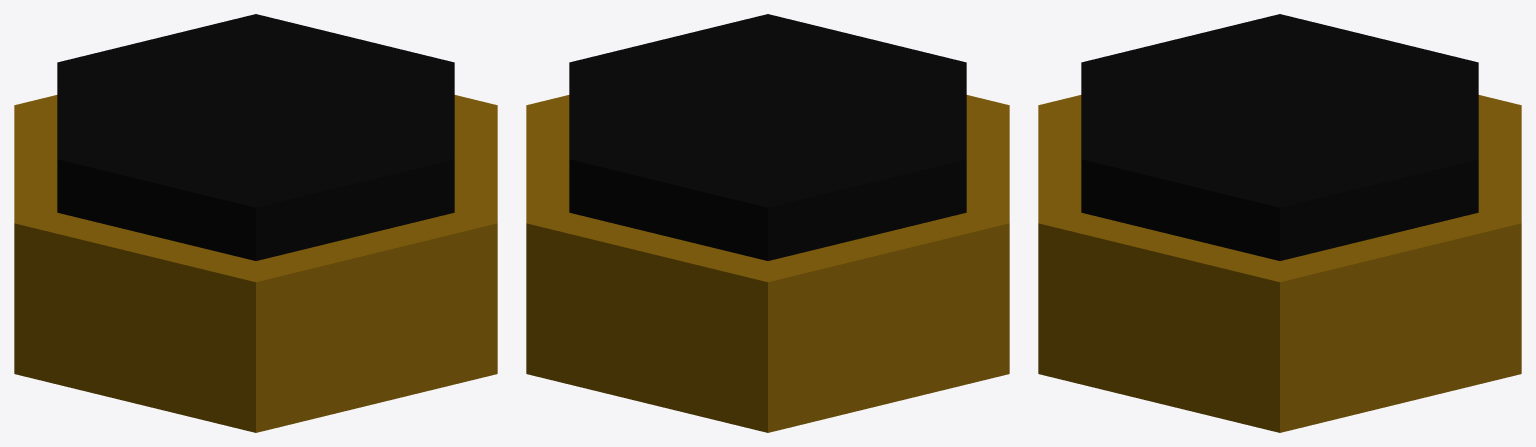
The model's file is charcoalbasketfree.fbx.
The picture shows the model from 3 angles, left to right: view 1: azimuth 30°, elevation 25°; view 2: azimuth 150°, elevation 25°; view 3: azimuth 270°, elevation 25°; orthographic projection.
Parts seen in each view (by area): view 1: charcoalbasket; view 2: charcoalbasket; view 3: charcoalbasket.
Part boxes in pixels (x1,y1,x2,y2): charcoalbasket: [14, 14, 497, 432]; charcoalbasket: [526, 14, 1009, 432]; charcoalbasket: [1038, 14, 1521, 432].
Size of the model in its own units: 0.1371 by 0.0553 by 0.1188.
